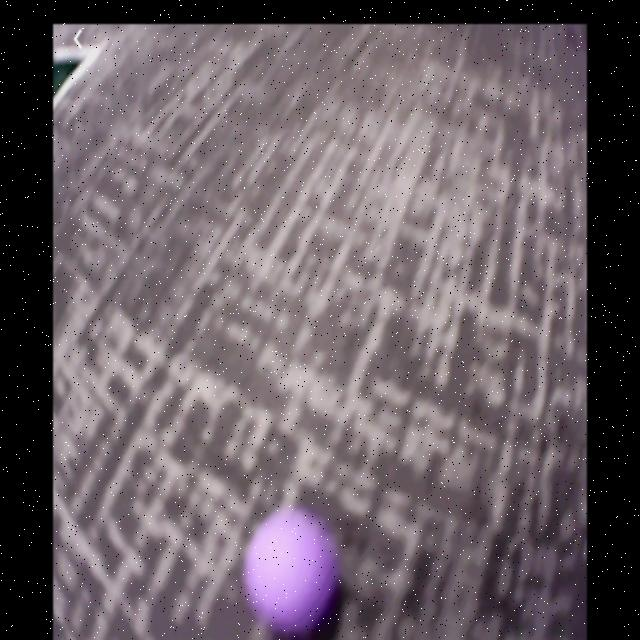ball: (242, 511, 338, 632)
